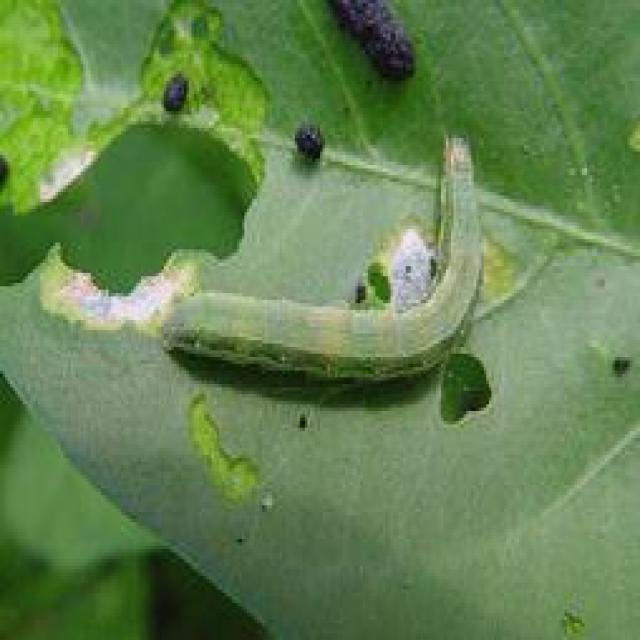BeetArmyWorm-Larva-: (156, 128, 490, 391)
